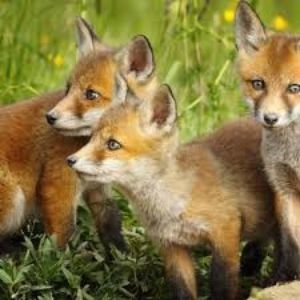fox: (68, 110, 254, 287), (235, 9, 299, 280), (41, 24, 159, 140)
